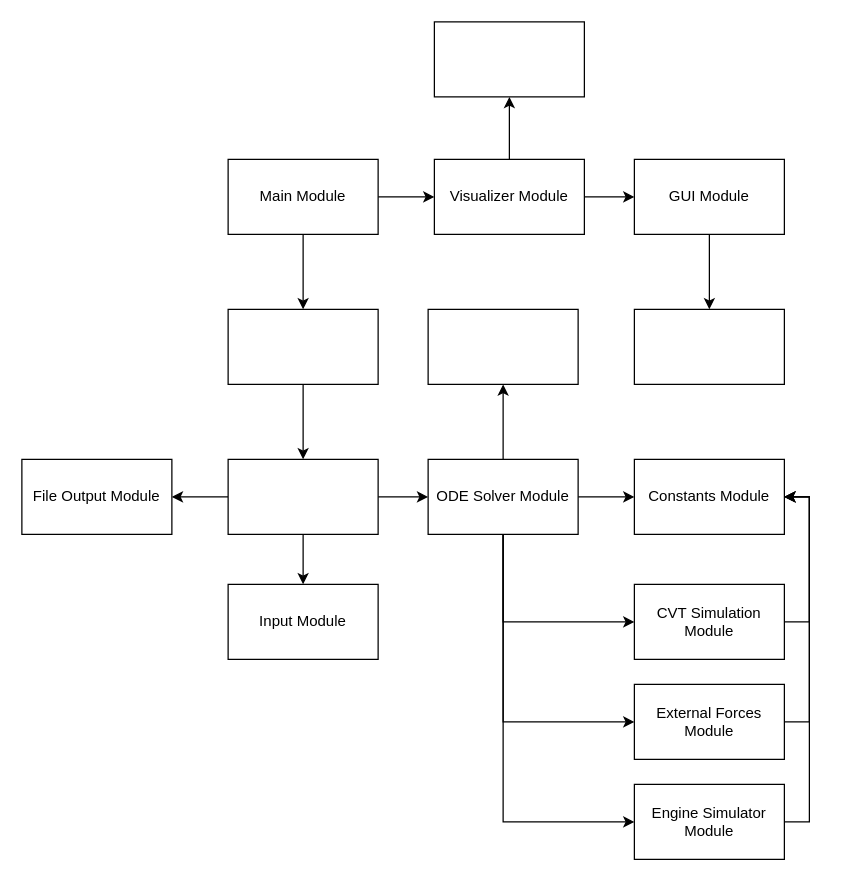
Some shapes in this 841 by 881 pixel diagram are drawn without their labels. Here are the shapes that lost their labels. From the top down, the centre of each, then its label:
At (x=508, y=59): "Playback Module".
At (x=302, y=346): "Communication Module".
At (x=502, y=346): "State Module".
At (x=708, y=346): "Hardware Hiding Module".
At (x=302, y=496): "Backend Controller Module".
